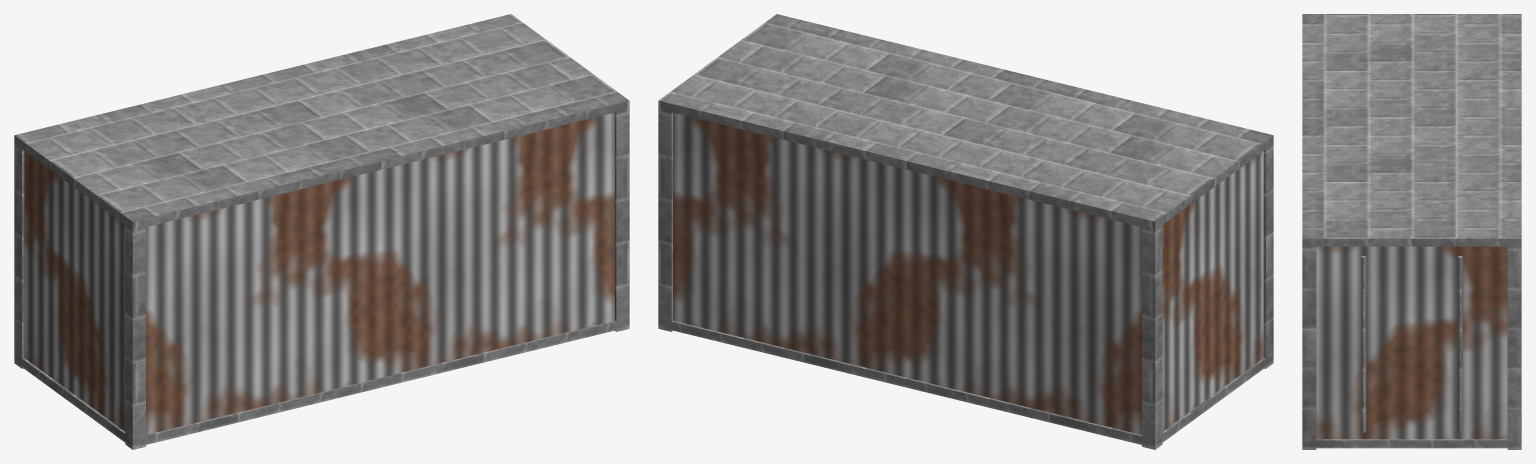
Rendered from container_green.obj.
The picture shows the model from 3 angles, left to right: view 1: azimuth 30°, elevation 25°; view 2: azimuth 150°, elevation 25°; view 3: azimuth 270°, elevation 25°; orthographic projection. The views are drawn at different scales.
Size of the model in its own units: 6.09 by 2.66 by 2.5.
Materials: 3 (3 with a texture image).
